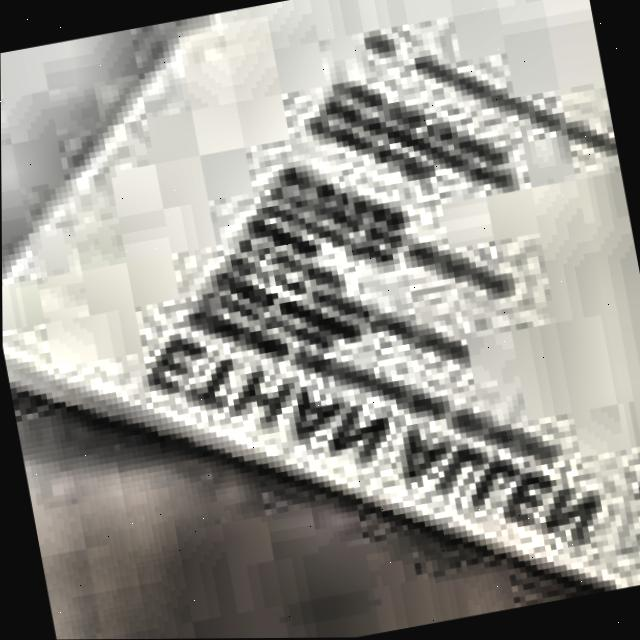paper: (2, 0, 640, 591)
